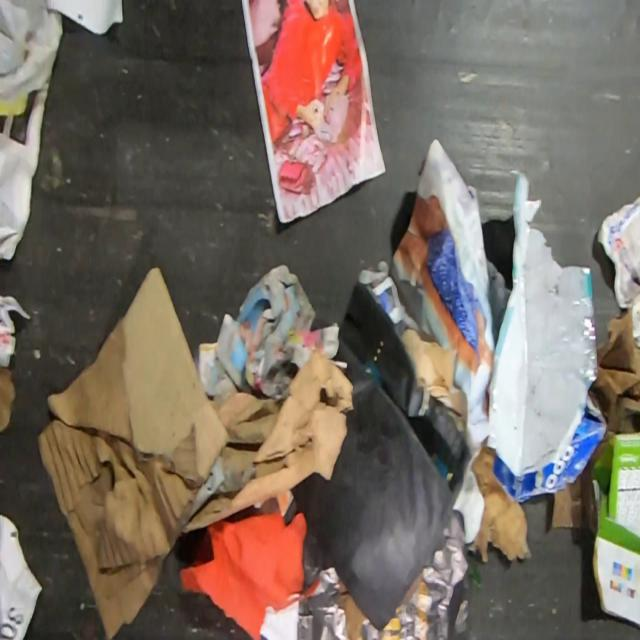cardboard: (37, 266, 355, 639), (590, 432, 640, 628), (470, 443, 534, 564), (591, 308, 639, 435)
soft_plastic: (487, 171, 597, 478), (0, 1, 62, 115)
